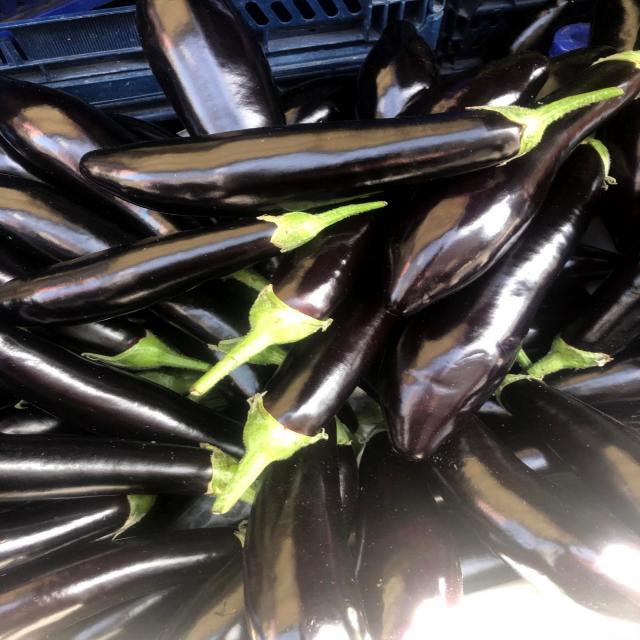eggplant: (69, 77, 636, 220), (0, 185, 404, 332), (0, 432, 283, 514)
